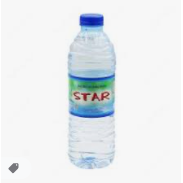Bottle: (67, 14, 118, 169)
